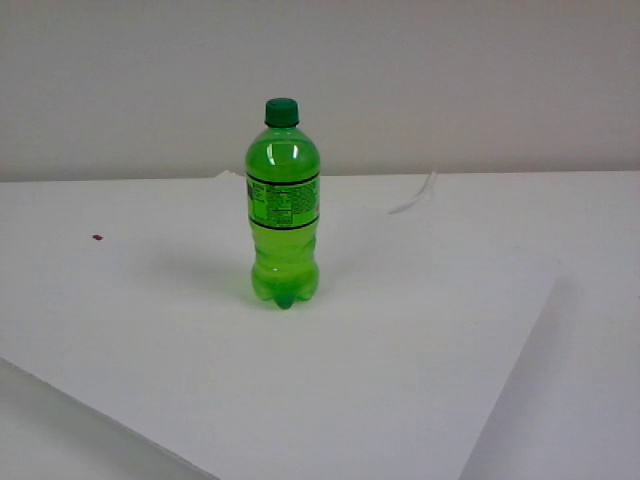botolplastik: (246, 99, 319, 310)
